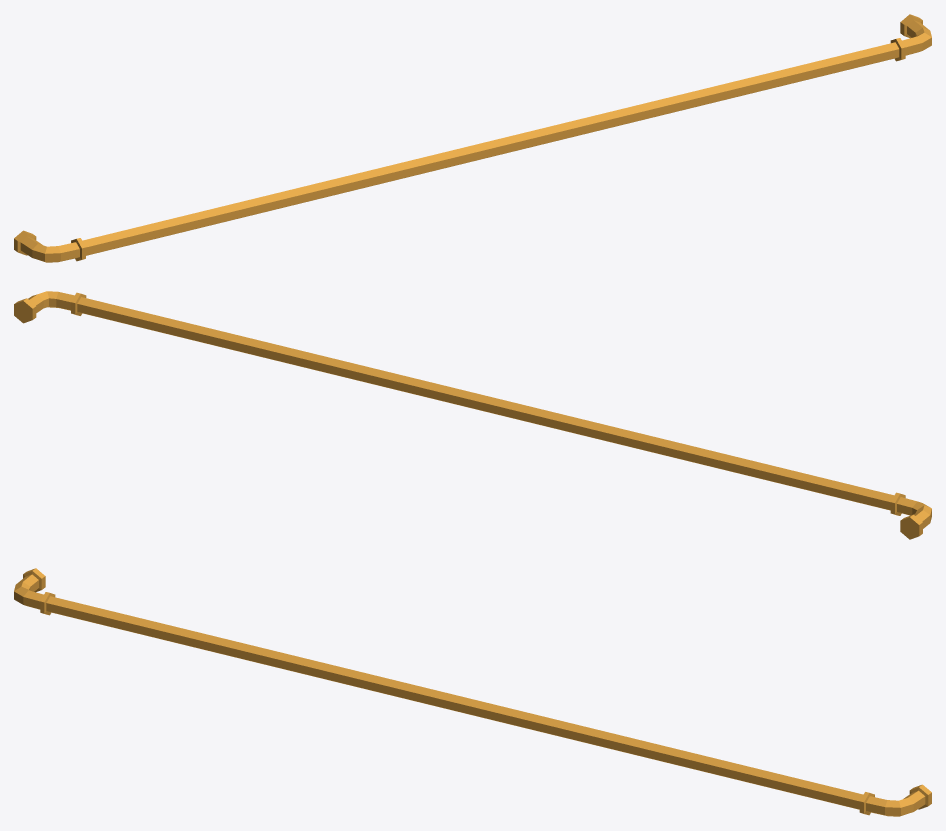
The model's file is SM_Ladder_Sliding_Rail_Long.fbx.
3 views of the same model, one above another, from view 1: azimuth 30°, elevation 25°; view 2: azimuth 150°, elevation 25°; view 3: azimuth 330°, elevation 25° (orthographic).
Parts seen in each view (by area): view 1: ladder-sliding-rail-long; view 2: ladder-sliding-rail-long; view 3: ladder-sliding-rail-long.
Part boxes in pixels (<box>): ladder-sliding-rail-long: <box>14,14,931,262</box>; ladder-sliding-rail-long: <box>14,291,931,539</box>; ladder-sliding-rail-long: <box>14,568,931,816</box>.
Size of the model in its own units: 1.92 by 0.0458 by 0.0999.
